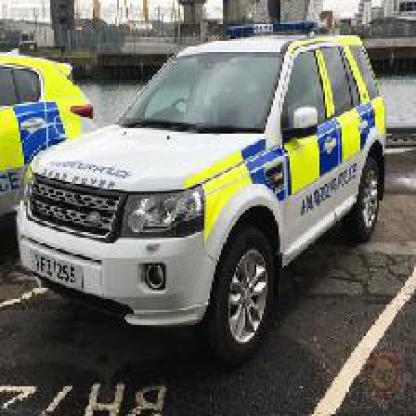emergency: (22, 20, 394, 364)
